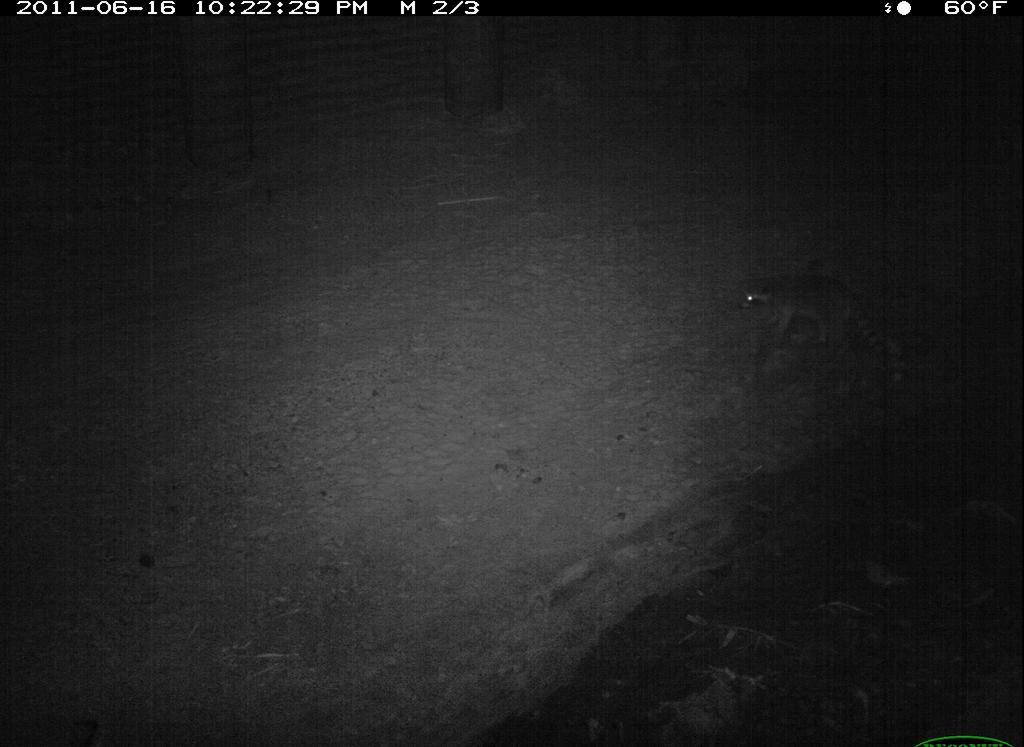raccoon: (731, 260, 895, 363)
